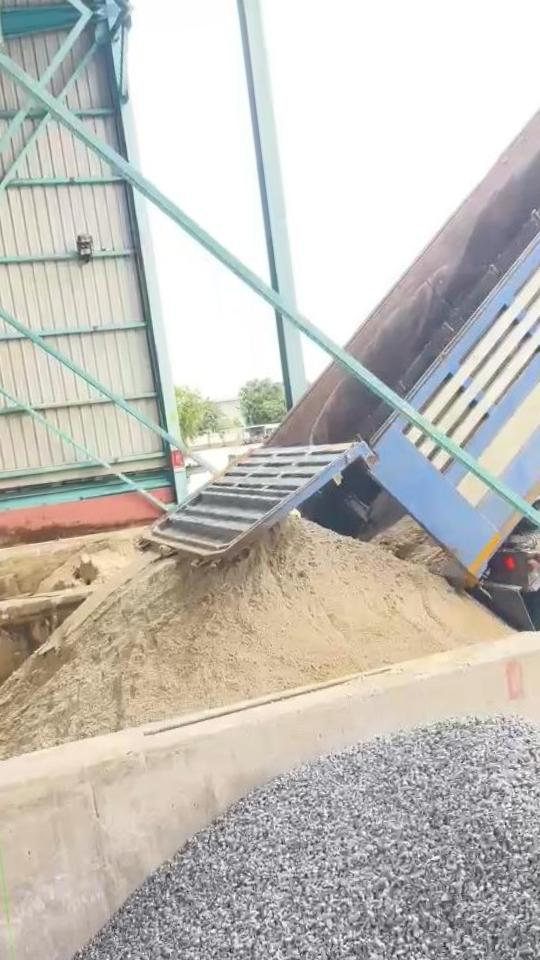gravel: (55, 719, 540, 960)
sand: (0, 518, 508, 757), (376, 515, 467, 588), (41, 541, 135, 590)
